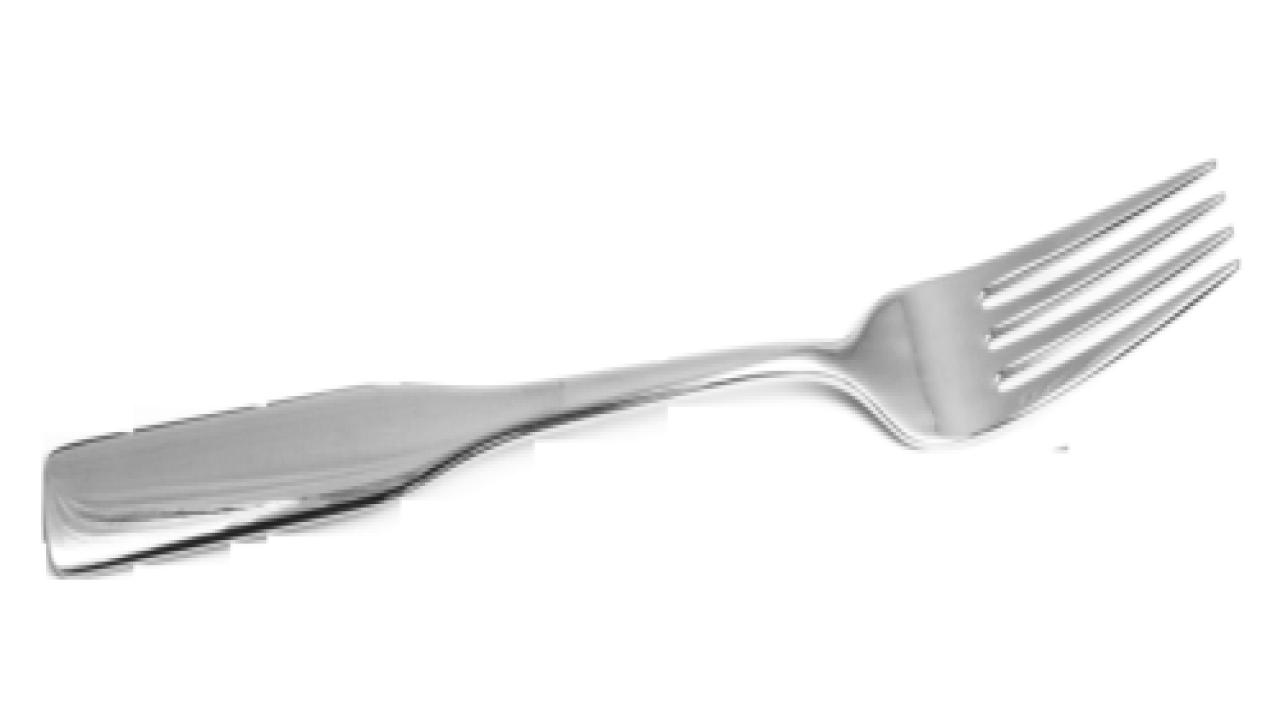fork: (42, 155, 1242, 576)
